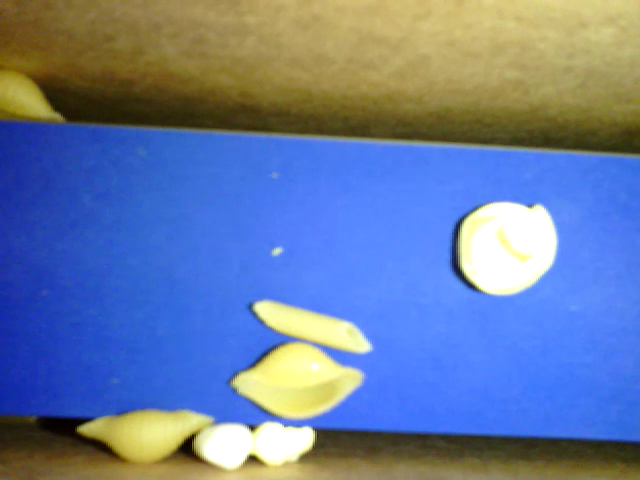penne: (250, 297, 376, 355)
shell: (225, 335, 369, 422), (75, 410, 215, 467), (2, 71, 66, 125)
tortellini: (457, 198, 561, 301)
